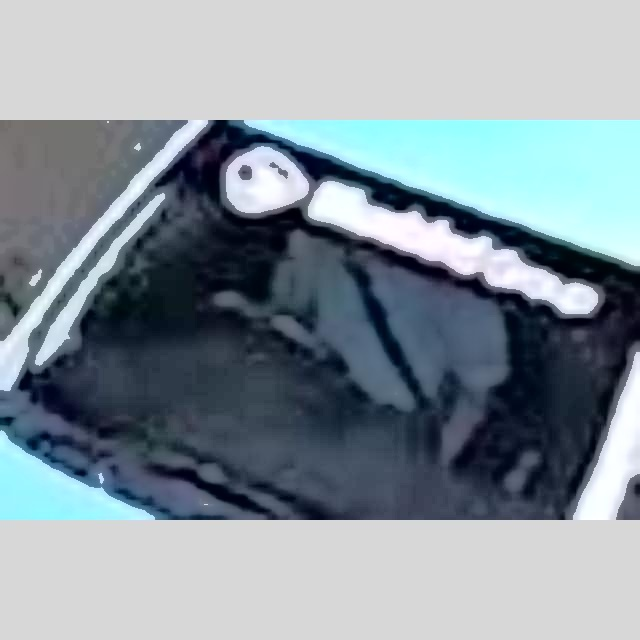pakai: (258, 231, 492, 465)
